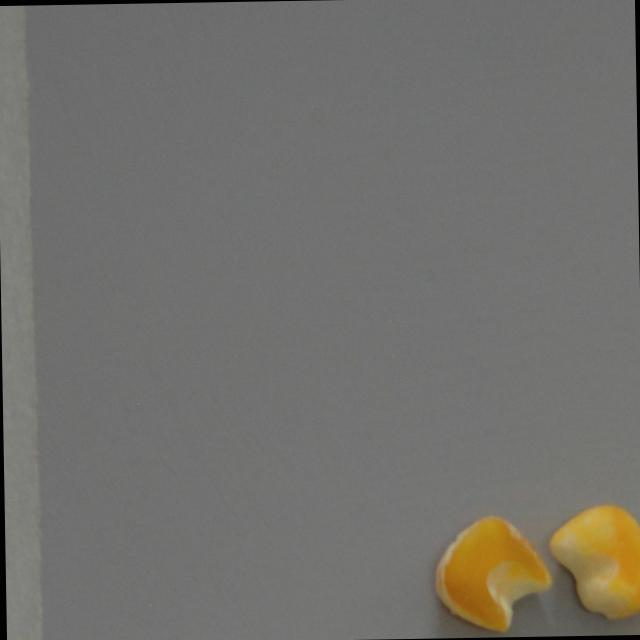no_canjicado: (549, 504, 640, 623)
pelicula: (434, 513, 552, 635)
